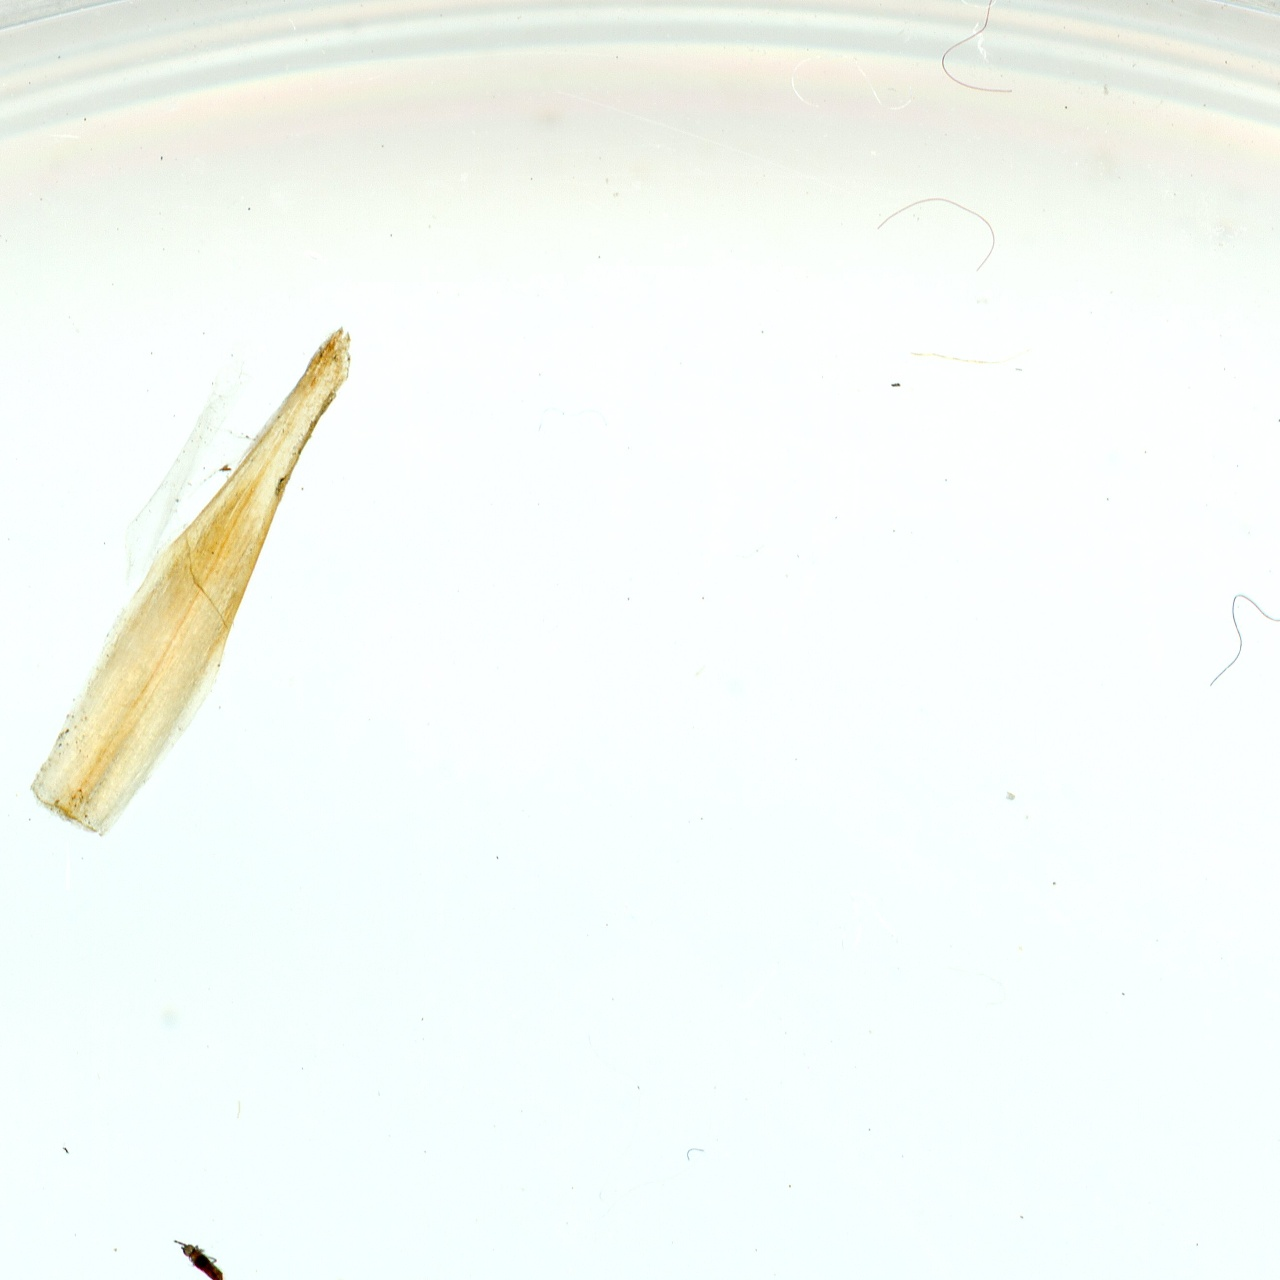arthropod: (157, 1221, 248, 1280)
